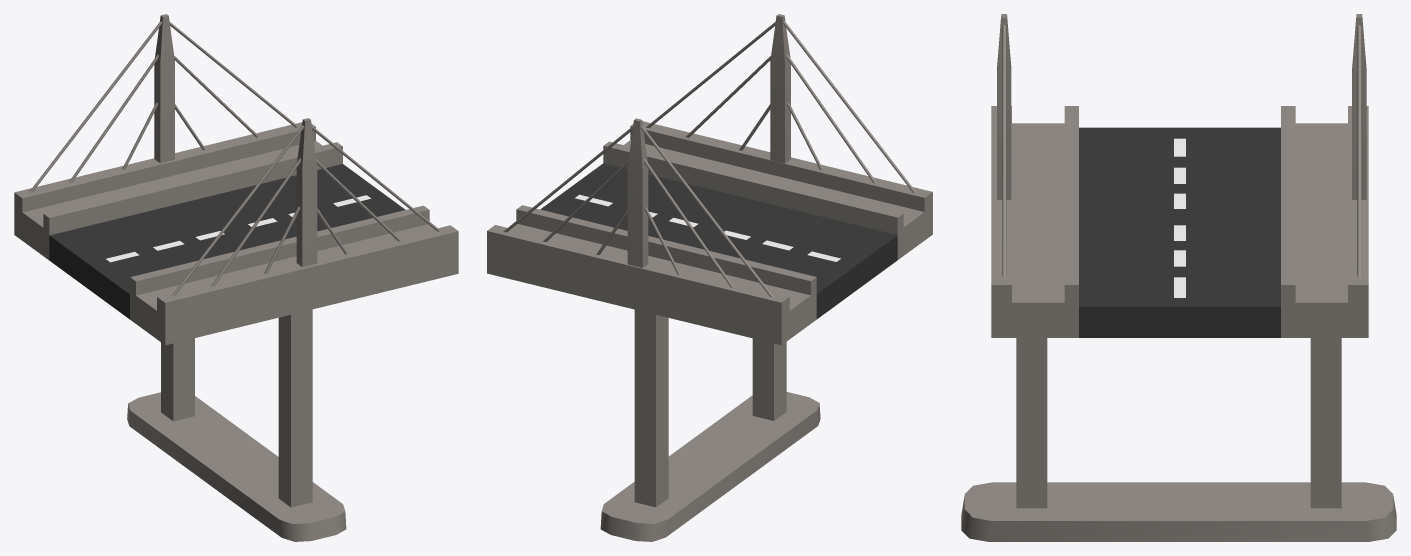
File: Bridge Tile_1.fbx
3 renders of one model, left to right at view 1: azimuth 30°, elevation 25°; view 2: azimuth 150°, elevation 25°; view 3: azimuth 270°, elevation 25°, orthographic. The views are drawn at different scales.
Parts seen in each view (by area): view 1: Bridge Tile_1; view 2: Bridge Tile_1; view 3: Bridge Tile_1.
Boxes of the visible parts, <box> form: Bridge Tile_1: <box>14,14,458,541</box>; Bridge Tile_1: <box>487,14,932,541</box>; Bridge Tile_1: <box>961,14,1396,541</box>.
Bounding box in the file's own units: 1500 × 1982 × 1541.
